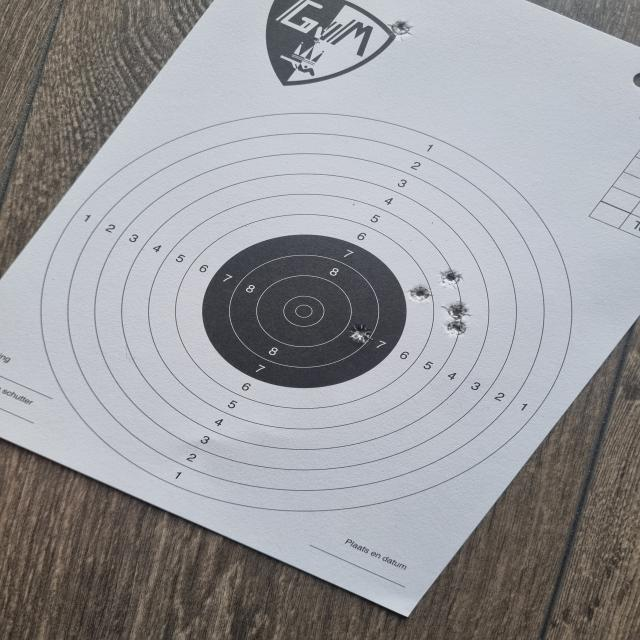6: (442, 304, 472, 320), (440, 270, 464, 289), (446, 320, 466, 336)
7: (408, 286, 434, 300)
9: (348, 325, 374, 343)
Black Contour: (202, 234, 408, 388)
Target: (48, 112, 574, 510)
hole: (387, 20, 415, 41)
